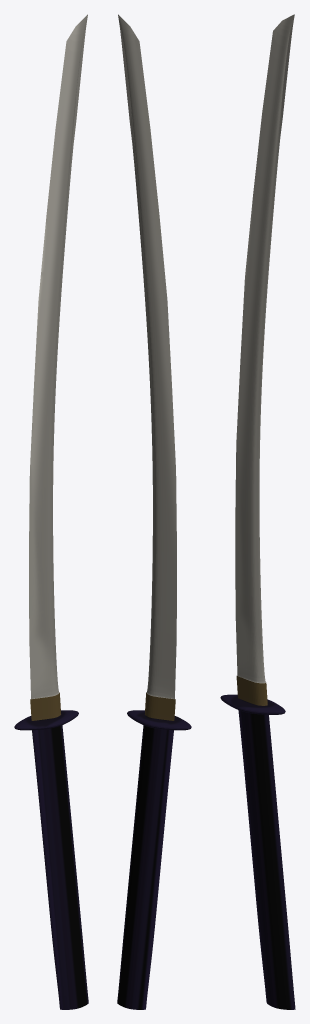
File: katana.glb
The picture shows the model from 3 angles, left to right: view 1: azimuth 30°, elevation 25°; view 2: azimuth 150°, elevation 25°; view 3: azimuth 330°, elevation 25°; orthographic projection.
Parts seen in each view (by area): view 1: Cylinder; view 2: Cylinder; view 3: Cylinder.
Part boxes in pixels (left/top/right/bottom): Cylinder: left=14, top=14, right=88, bottom=1009; Cylinder: left=117, top=14, right=191, bottom=1009; Cylinder: left=220, top=14, right=295, bottom=1009.
Size of the model in its own units: 0.0933 by 1.19 by 0.0364.
1 material, 1 textured.
